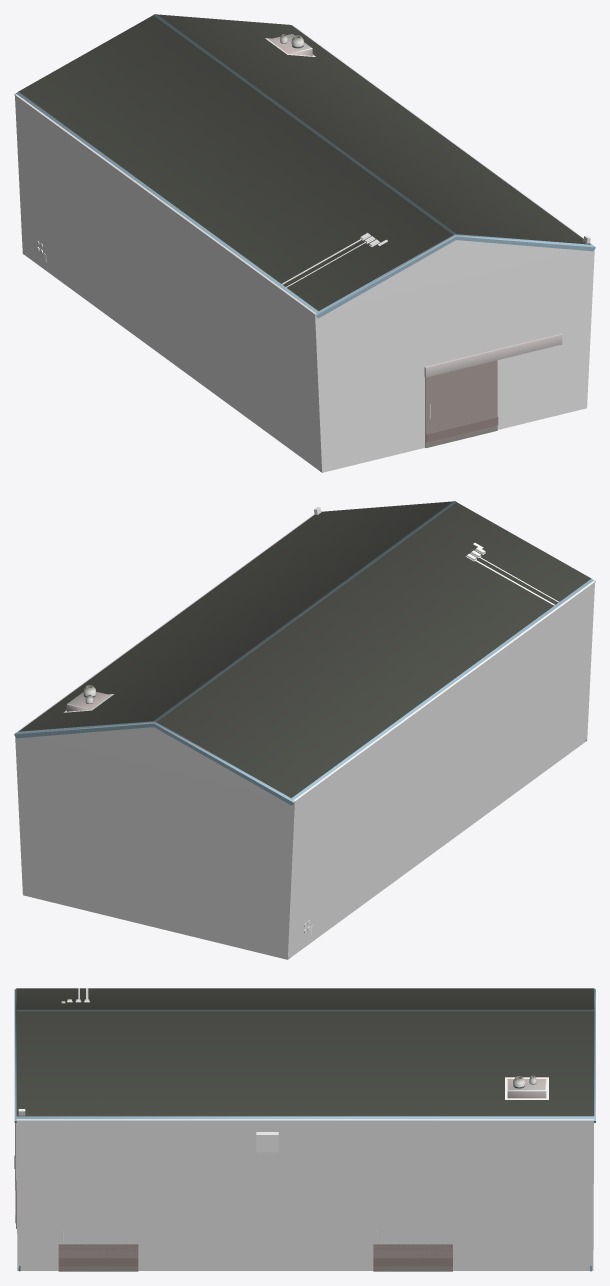
Rendered from eca_bld_fv_warehouse.DAE.
3 renders of one model, top to bottom at view 1: azimuth 30°, elevation 25°; view 2: azimuth 150°, elevation 25°; view 3: azimuth 270°, elevation 25°, orthographic. The views are drawn at different scales.
Visible parts, largest first — view 1: eca_bld_fv_warehouse350, Colmesh-1; view 2: Colmesh-1, eca_bld_fv_warehouse350; view 3: Colmesh-1, eca_bld_fv_warehouse350, eca_bld_fv_warehouse50.
Part boxes in pixels (box(x1,y1,x2,y2)): eca_bld_fv_warehouse350: box(14, 14, 595, 471); Colmesh-1: box(15, 26, 594, 472); Colmesh-1: box(15, 514, 594, 959); eca_bld_fv_warehouse350: box(14, 501, 595, 958); Colmesh-1: box(16, 1119, 593, 1270); eca_bld_fv_warehouse350: box(14, 988, 595, 1271); eca_bld_fv_warehouse50: box(58, 1244, 452, 1271).
Size of the model in its own units: 8.68 by 15.91 by 6.01.
